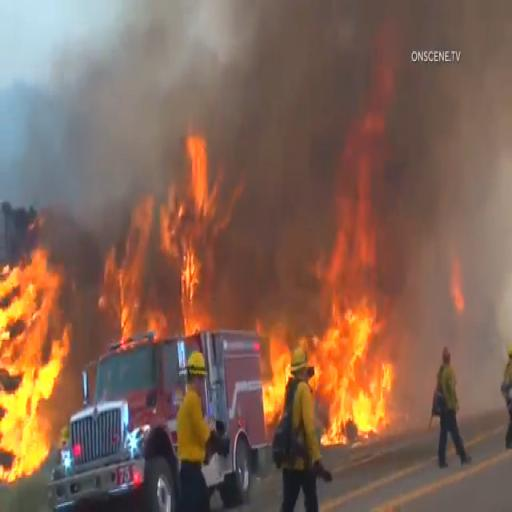fire: (0, 239, 67, 470), (320, 282, 400, 448), (162, 137, 228, 322), (104, 207, 152, 337)
smoke: (0, 42, 144, 166), (196, 8, 333, 132), (418, 92, 512, 269)
